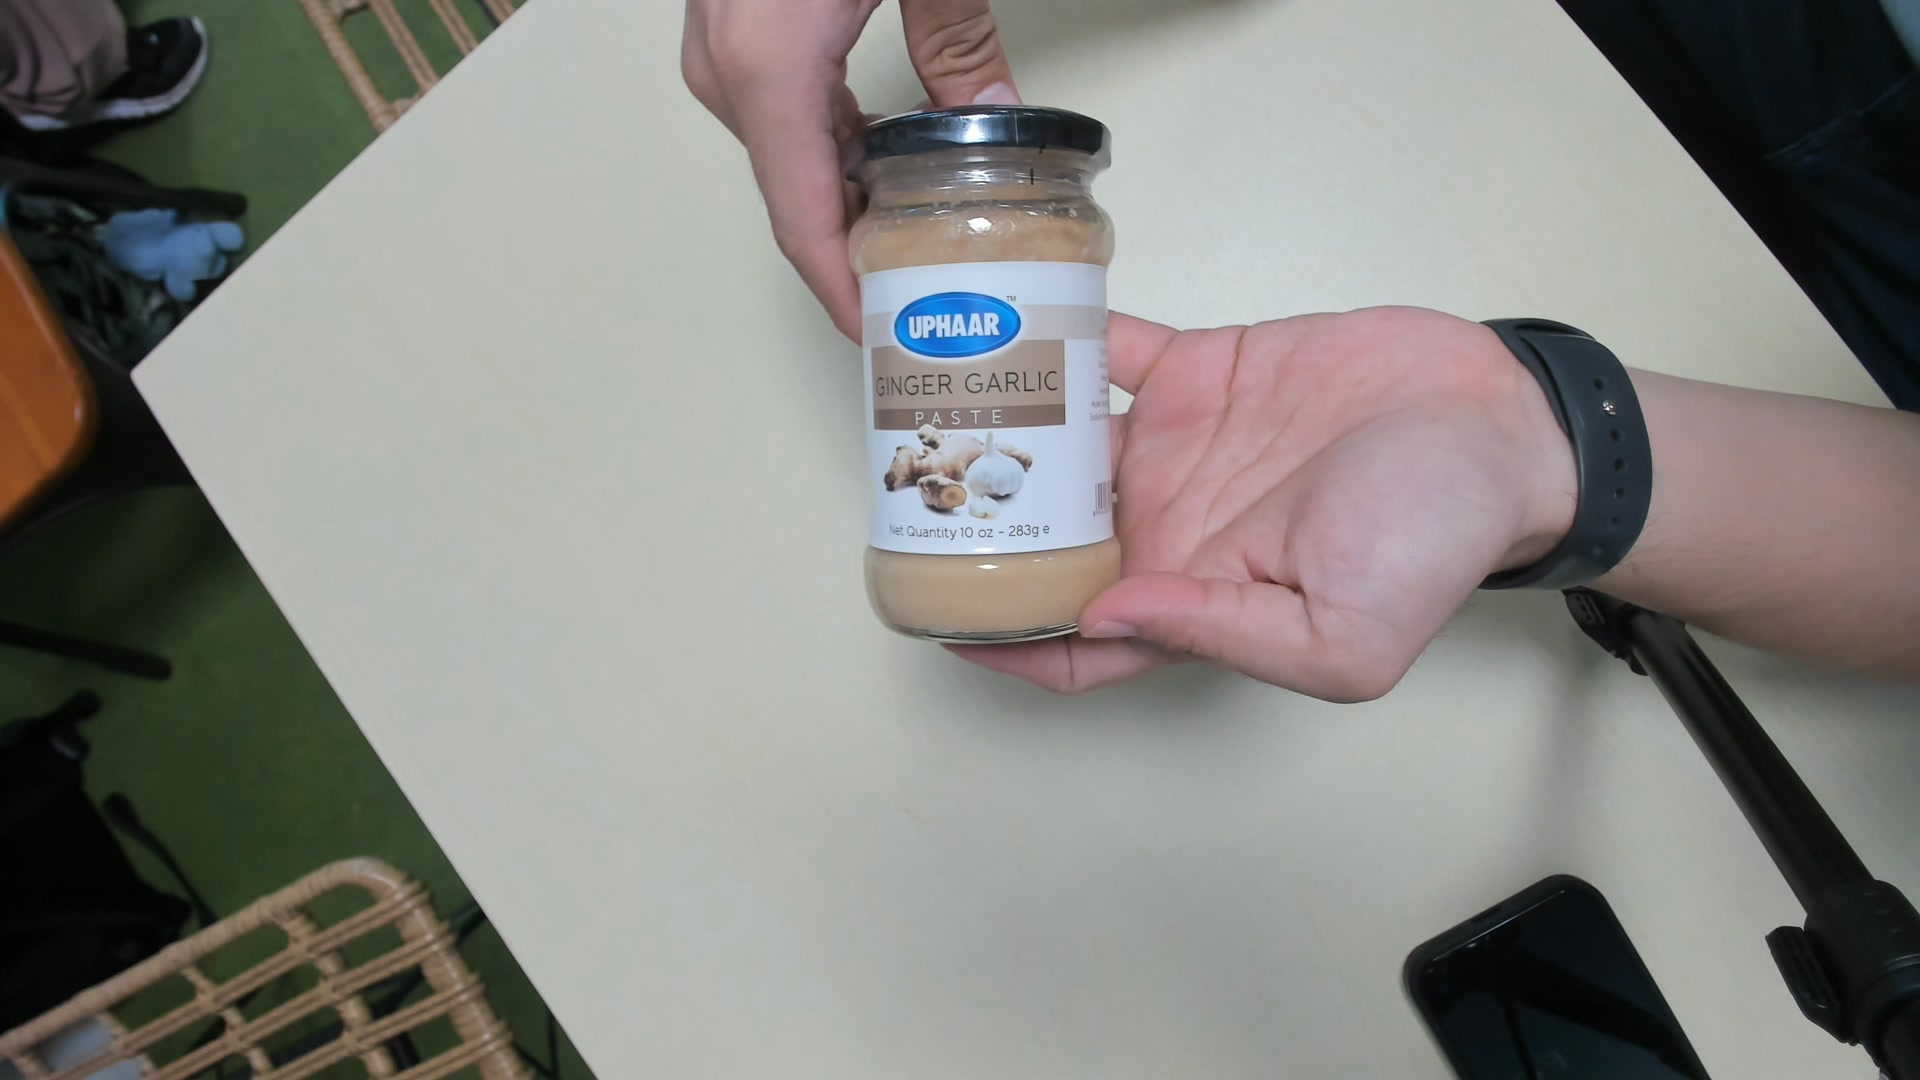OtherSauceDressing_200-299g_NonHalal_NonHealthy: (852, 107, 1121, 644)
